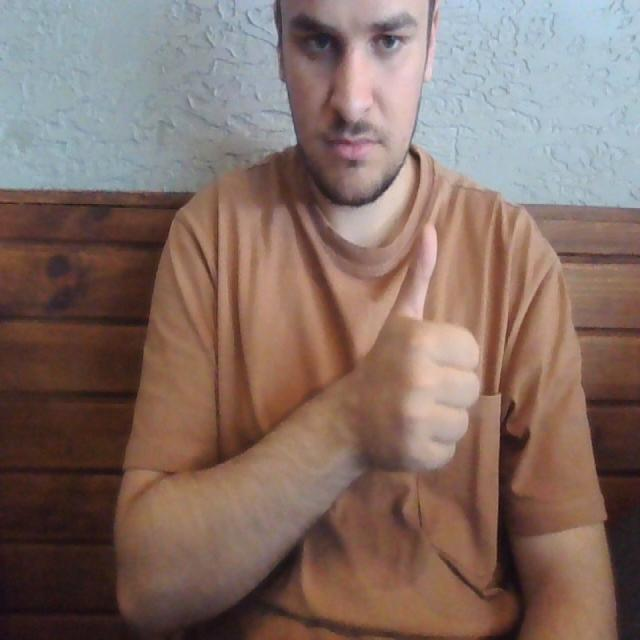Tamam: (361, 213, 485, 490)
